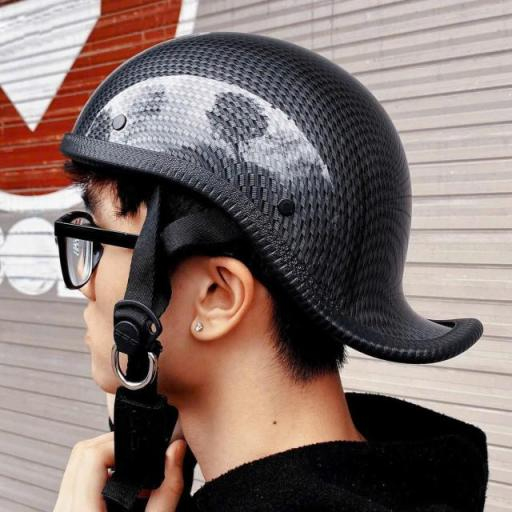with helmet: (26, 32, 503, 372)
